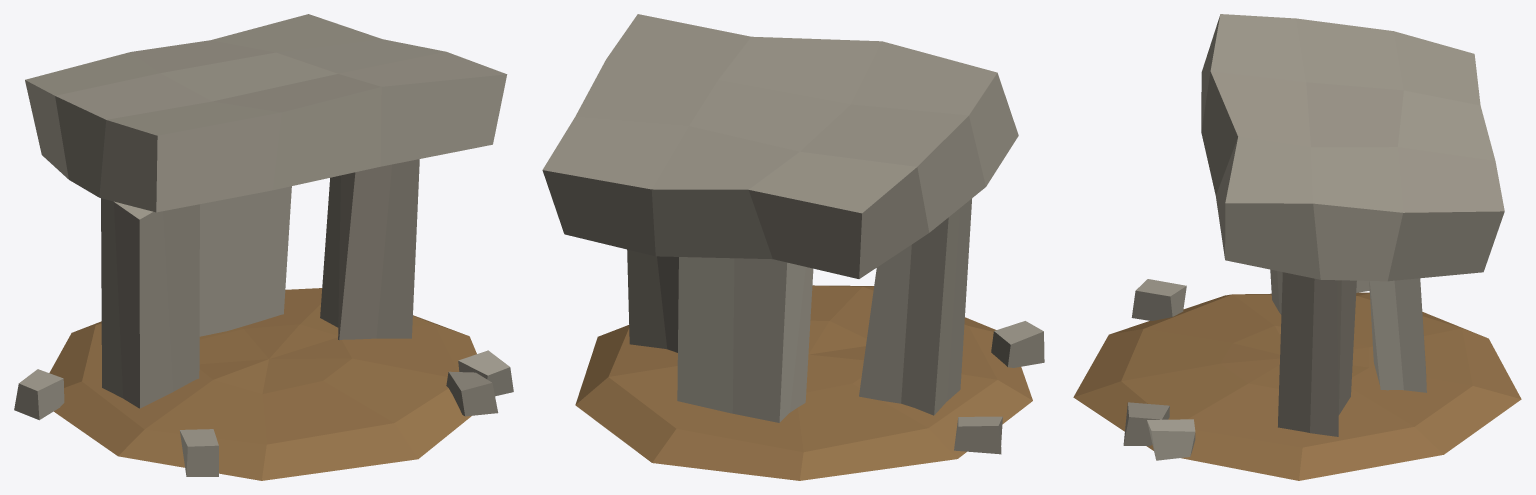
File: dolmen.glb
3 views of the same model, side by side, from view 1: azimuth 30°, elevation 25°; view 2: azimuth 150°, elevation 25°; view 3: azimuth 270°, elevation 25° (orthographic). The views are drawn at different scales.
Visible parts, largest first — view 1: dolmen; view 2: dolmen; view 3: dolmen.
Part boxes in pixels (box(x1,y1,x2,y2)): dolmen: box(14, 14, 513, 480); dolmen: box(542, 14, 1044, 480); dolmen: box(1073, 14, 1521, 480).
Size of the model in its own units: 3.72 by 2.64 by 3.54.
